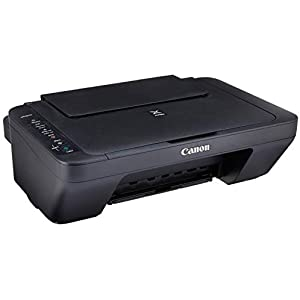printer: (3, 75, 297, 224)
